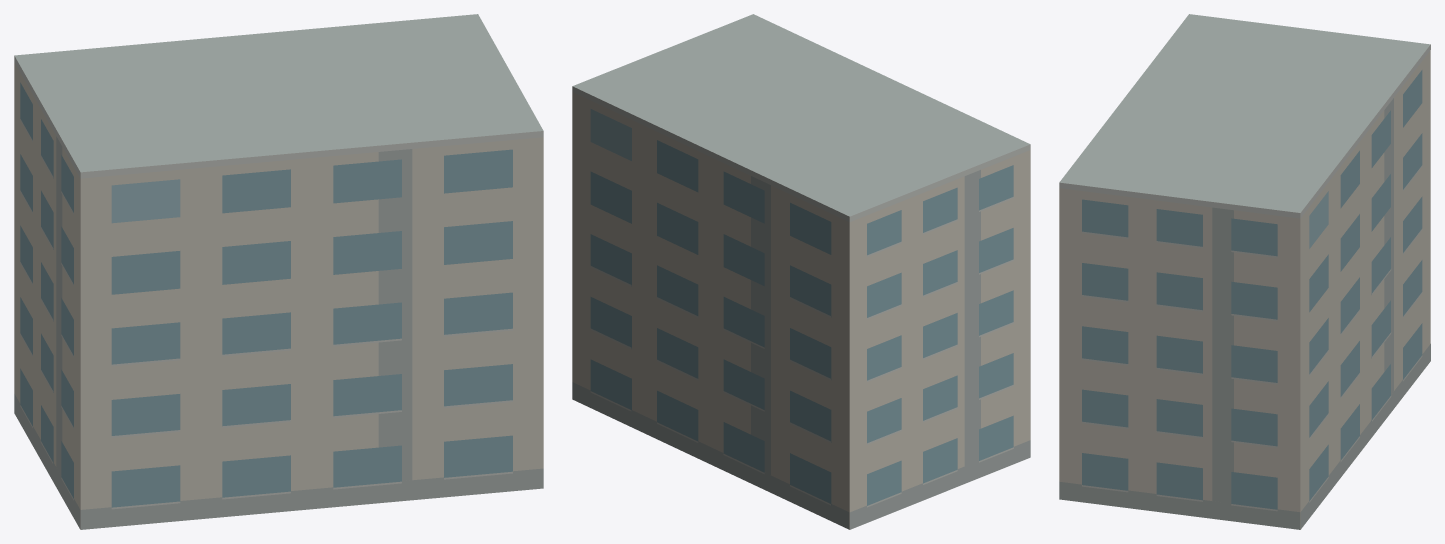
Rendered from survey-upis-32783973.glb.
3 views of the same model, side by side, from view 1: azimuth 30°, elevation 25°; view 2: azimuth 150°, elevation 25°; view 3: azimuth 270°, elevation 25° (orthographic). The views are drawn at different scales.
Visible parts, largest first — view 1: survey-upis-32783973.tmp; view 2: survey-upis-32783973.tmp; view 3: survey-upis-32783973.tmp.
Part boxes in pixels (bbox=[...]): survey-upis-32783973.tmp: bbox=[14, 14, 543, 529]; survey-upis-32783973.tmp: bbox=[572, 14, 1030, 529]; survey-upis-32783973.tmp: bbox=[1059, 14, 1430, 529].
Size of the model in its own units: 18.61 by 13.8 by 14.68.
